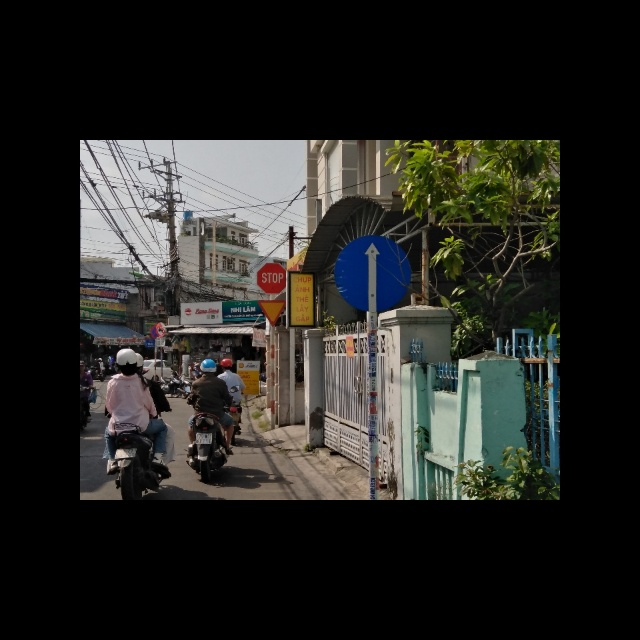Dừng lại: (256, 263, 287, 294)
Giao nhau với đường ưu tiên: (257, 299, 287, 326)
Đường một chiều: (335, 234, 413, 313)
